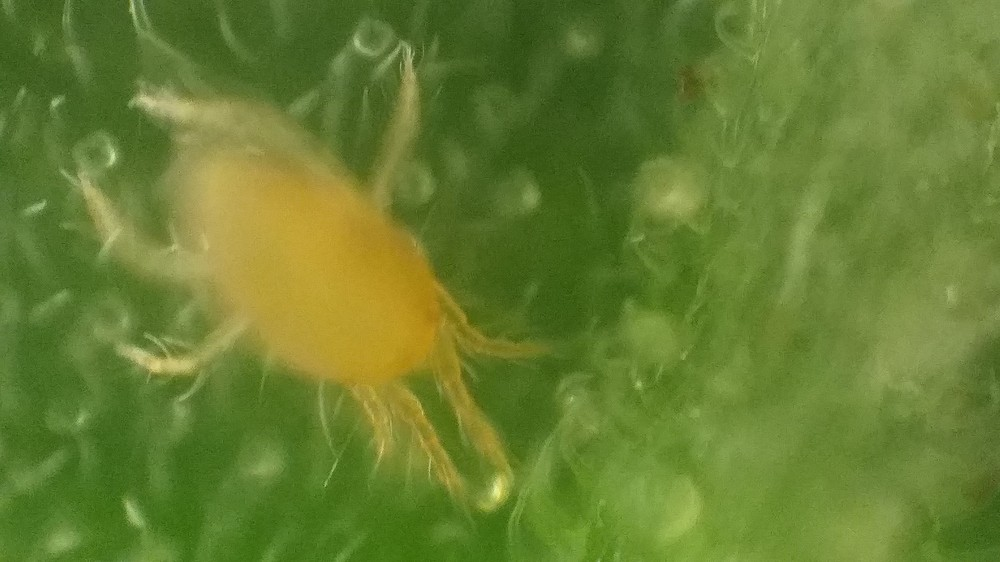Aracnido Rojo: (70, 52, 585, 500)
